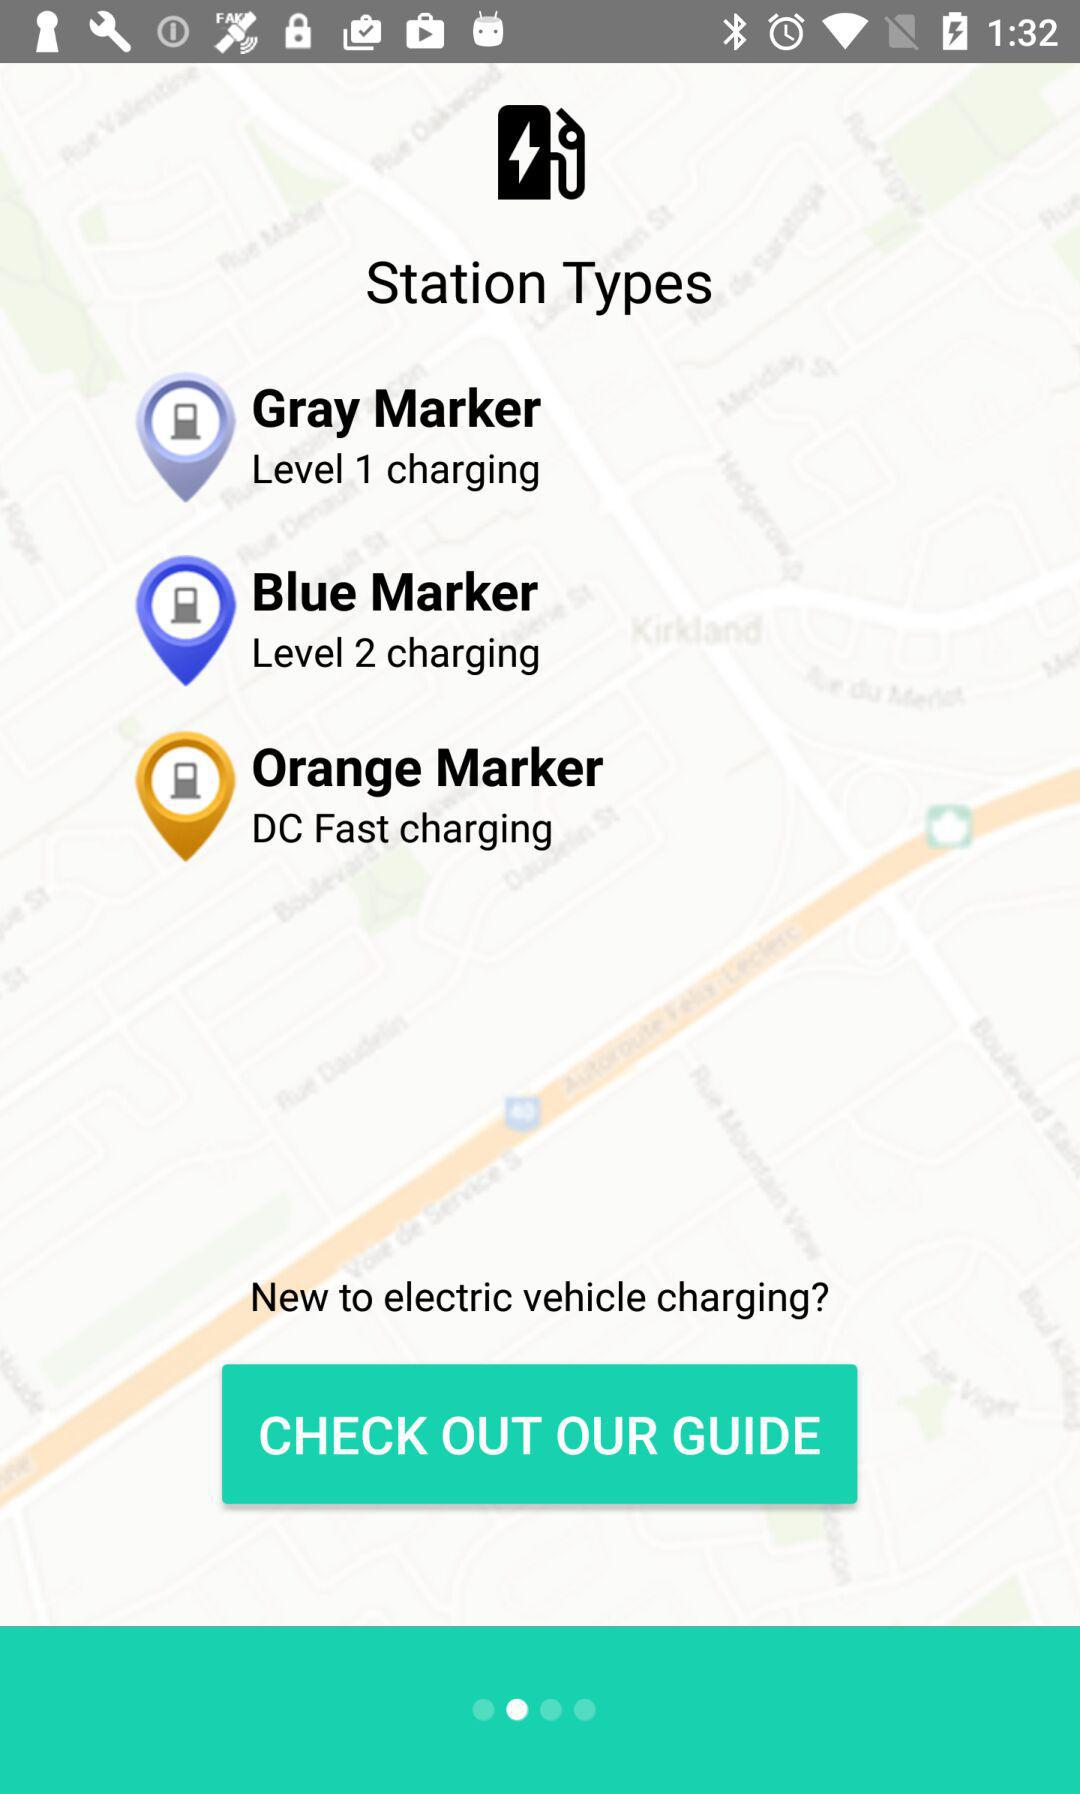Image: (135, 555, 238, 687), (136, 372, 238, 504), (135, 730, 237, 862), (498, 105, 585, 202)
PageIndicator: (471, 1697, 600, 1724)
Text: (252, 1280, 830, 1321), (366, 261, 714, 317), (252, 745, 603, 798), (252, 386, 542, 440), (252, 569, 539, 613), (252, 811, 552, 852), (252, 451, 541, 493), (252, 634, 541, 677)
TextButton: (222, 1363, 858, 1504)
UpperTaskBar: (1, 1, 1080, 64)
